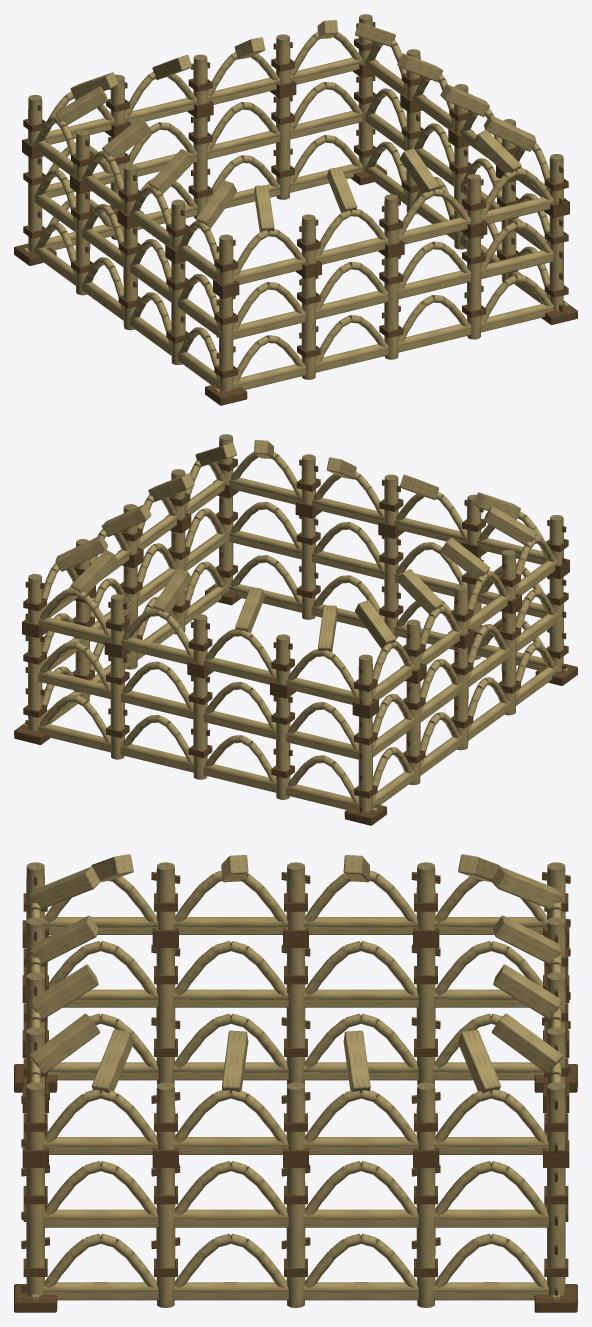
3 renders of one model, top to bottom at view 1: azimuth 30°, elevation 25°; view 2: azimuth 150°, elevation 25°; view 3: azimuth 270°, elevation 25°, orthographic. The views are drawn at different scales.
Visible parts, largest first — view 1: Tier 0 side 0 post 2, Tier 0 side 2 post 1, Tier 0 side 0 post 1, Tier 0 side 0 post 3, Tier 0 side 0 post 0, Tier 0 side 2 post 2, Tier 0 side 1 post 0, Tier 0 side 3 post 2, Tier 0 side 3 post 3, Tier 0 side 3 post 1, Tier 0 side 3 post 0, Crown petal 0-3 (+47 smaller); view 2: Tier 0 side 2 post 2, Tier 0 side 0 post 3, Tier 0 side 2 post 3, Tier 0 side 2 post 1, Tier 0 side 3 post 0, Tier 0 side 2 post 0, Tier 0 side 0 post 2, Tier 0 side 3 post 2, Tier 0 side 3 post 1, Tier 0 side 3 post 3, Tier 0 side 0 post 0, Crown petal 3-3 (+47 smaller); view 3: Tier 0 side 1 post 2, Tier 0 side 1 post 1, Tier 0 side 1 post 3, Tier 0 side 3 post 2, Tier 0 side 3 post 3, Tier 0 side 3 post 1, Tier 0 side 1 post 0, Tier 0 side 2 post 0, Crown petal 2-0, Crown petal 0-3, Crown petal 2-1, Crown petal 0-2 (+74 smaller).
Boxes of the visible parts, <box> form: Tier 0 side 0 post 2: <box>384,256,398,359</box>; Tier 0 side 2 post 1: <box>276,96,290,199</box>; Tier 0 side 0 post 1: <box>301,276,315,379</box>; Tier 0 side 0 post 3: <box>467,236,481,339</box>; Tier 0 side 0 post 0: <box>219,296,233,391</box>; Tier 0 side 2 post 2: <box>193,116,207,218</box>; Tier 0 side 1 post 0: <box>549,216,563,310</box>; Tier 0 side 3 post 2: <box>123,226,137,330</box>; Tier 0 side 3 post 3: <box>171,261,185,364</box>; Tier 0 side 3 post 1: <box>75,191,90,295</box>; Tier 0 side 3 post 0: <box>28,157,42,251</box>; Crown petal 0-3: <box>473,130,521,173</box>; Tier 0 side 2 post 2: <box>193,676,207,779</box>; Tier 0 side 0 post 3: <box>301,516,315,619</box>; Tier 0 side 2 post 3: <box>276,696,290,799</box>; Tier 0 side 2 post 1: <box>110,656,124,759</box>; Tier 0 side 3 post 0: <box>358,716,372,811</box>; Tier 0 side 2 post 0: <box>28,636,42,730</box>; Tier 0 side 0 post 2: <box>384,536,398,638</box>; Tier 0 side 3 post 2: <box>454,646,468,750</box>; Tier 0 side 3 post 1: <box>406,681,420,785</box>; Tier 0 side 3 post 3: <box>501,611,516,715</box>; Tier 0 side 0 post 0: <box>549,577,563,671</box>; Crown petal 3-3: <box>484,506,536,544</box>; Tier 0 side 1 post 2: <box>286,1168,305,1307</box>; Tier 0 side 1 post 1: <box>156,1168,175,1307</box>; Tier 0 side 1 post 3: <box>416,1168,435,1307</box>; Tier 0 side 3 post 2: <box>286,948,305,1084</box>; Tier 0 side 3 post 3: <box>156,948,175,1084</box>; Tier 0 side 3 post 1: <box>416,948,435,1084</box>; Tier 0 side 1 post 0: <box>26,1168,44,1295</box>; Tier 0 side 2 post 0: <box>547,1168,565,1295</box>; Crown petal 2-0: <box>491,1013,562,1074</box>; Crown petal 0-3: <box>29,1013,100,1074</box>; Crown petal 2-1: <box>493,964,561,1019</box>; Crown petal 0-2: <box>30,964,98,1019</box>.
Size of the model in its own units: 1.95 by 0.9573 by 1.95.
2 materials, 2 textured.
